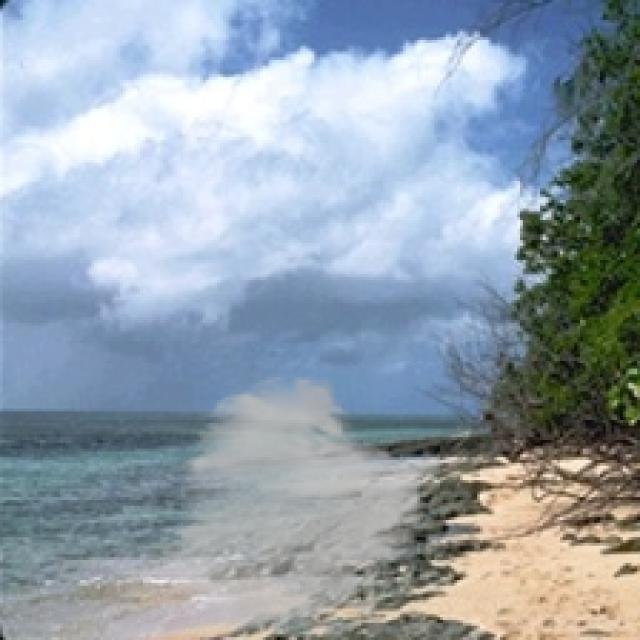smoke: (160, 372, 443, 634)
